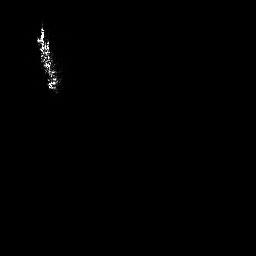ship: (36, 21, 62, 95)
